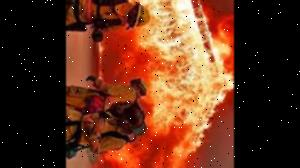fire: (151, 0, 229, 168), (100, 29, 146, 75), (109, 136, 149, 168)
